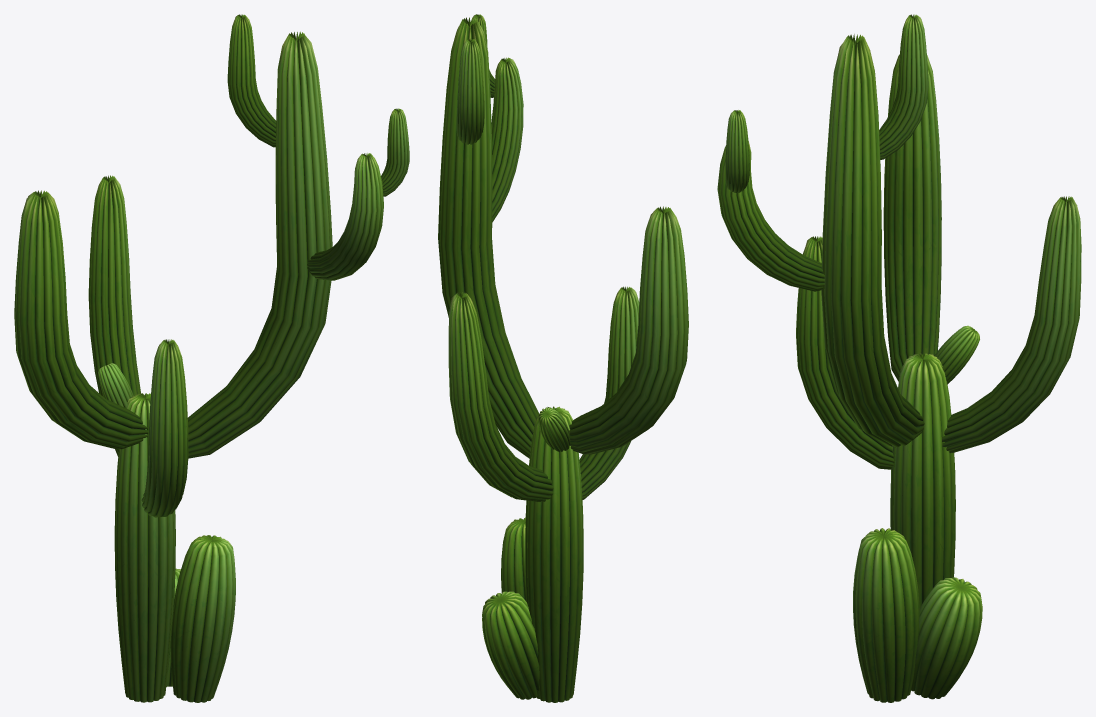
The model's file is DE_Cactus_37.fbx.
3 views of the same model, side by side, from view 1: azimuth 30°, elevation 25°; view 2: azimuth 150°, elevation 25°; view 3: azimuth 270°, elevation 25° (orthographic). The views are drawn at different scales.
Visible parts, largest first — view 1: DE_Cactus_37; view 2: DE_Cactus_37; view 3: DE_Cactus_37.
Boxes of the visible parts, x1=… form: DE_Cactus_37: x1=14, y1=14, x2=409, y2=702; DE_Cactus_37: x1=438, y1=14, x2=688, y2=702; DE_Cactus_37: x1=717, y1=14, x2=1081, y2=702.
Size of the model in its own units: 4.9 by 10.04 by 4.64.
